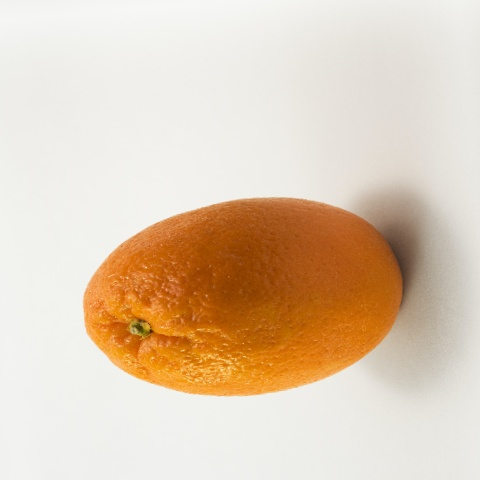orange: (32, 131, 453, 445)
